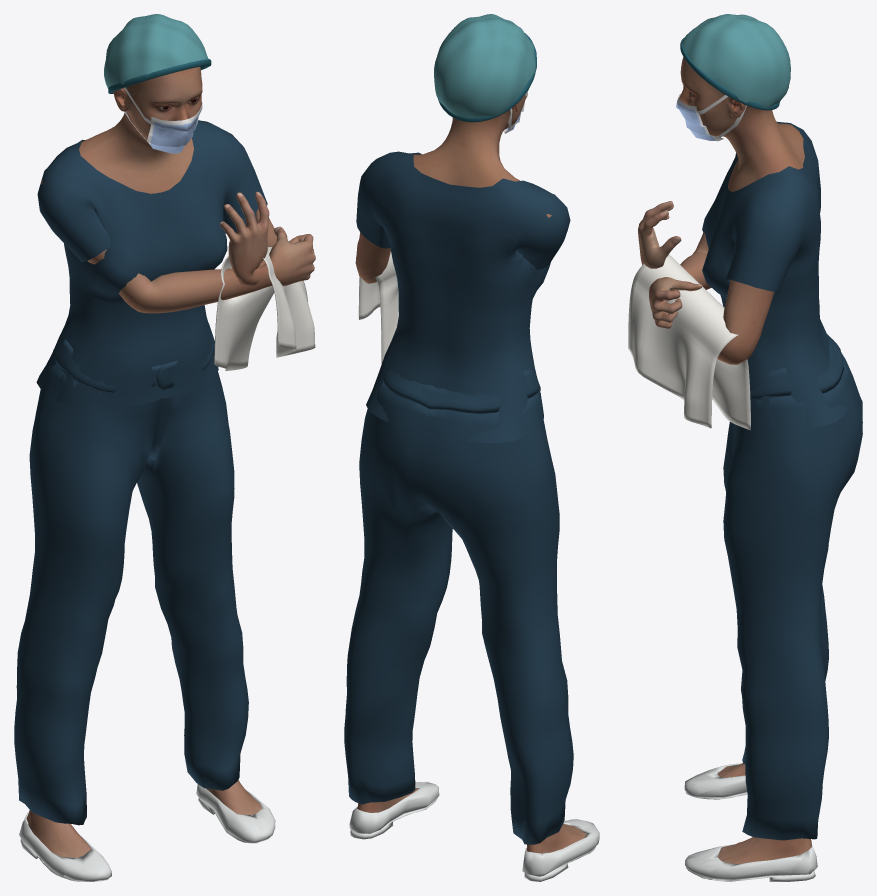
Rendered from paso-1.glb.
3 views of the same model, side by side, from view 1: azimuth 30°, elevation 25°; view 2: azimuth 150°, elevation 25°; view 3: azimuth 270°, elevation 25° (orthographic). The views are drawn at different scales.
Parts seen in each view (by area): view 1: Human.toigo_wool_pants-static, Human.joepal_crude_t-shirt_female-static, Human-static, v2-sterile-towel, surgical-cap, Human.toigo_flats-static, Human.joepal_medical_mouth_protection-static, cap-elastic; view 2: Human.toigo_wool_pants-static, Human.joepal_crude_t-shirt_female-static, surgical-cap, Human-static, Human.toigo_flats-static, v2-sterile-towel, cap-elastic; view 3: Human.toigo_wool_pants-static, Human.joepal_crude_t-shirt_female-static, Human-static, v2-sterile-towel, surgical-cap, Human.toigo_flats-static, Human.joepal_medical_mouth_protection-static, cap-elastic.
Part boxes in pixels (<box>): Human.toigo_wool_pants-static: <box>14,323,248,825</box>; Human.joepal_crude_t-shirt_female-static: <box>36,120,267,407</box>; Human-static: <box>26,66,315,857</box>; v2-sterile-towel: <box>214,247,315,370</box>; surgical-cap: <box>104,14,208,88</box>; Human.toigo_flats-static: <box>19,784,275,881</box>; Human.joepal_medical_mouth_protection-static: <box>124,87,202,153</box>; cap-elastic: <box>108,59,211,93</box>; Human.toigo_wool_pants-static: <box>344,368,573,844</box>; Human.joepal_crude_t-shirt_female-static: <box>356,151,570,442</box>; surgical-cap: <box>434,14,535,118</box>; Human-static: <box>355,95,586,853</box>; Human.toigo_flats-static: <box>349,781,599,881</box>; v2-sterile-towel: <box>358,251,398,364</box>; cap-elastic: <box>438,33,536,122</box>; Human.toigo_wool_pants-static: <box>723,334,862,840</box>; Human.joepal_crude_t-shirt_female-static: <box>702,121,848,427</box>; Human-static: <box>638,57,811,863</box>; v2-sterile-towel: <box>628,254,750,430</box>; surgical-cap: <box>682,14,790,108</box>; Human.toigo_flats-static: <box>684,763,817,881</box>; Human.joepal_medical_mouth_protection-static: <box>676,94,746,141</box>; cap-elastic: <box>680,37,779,110</box>.
Size of the model in its own units: 0.5323 by 1.69 by 0.441.
16 materials, 10 textured.
